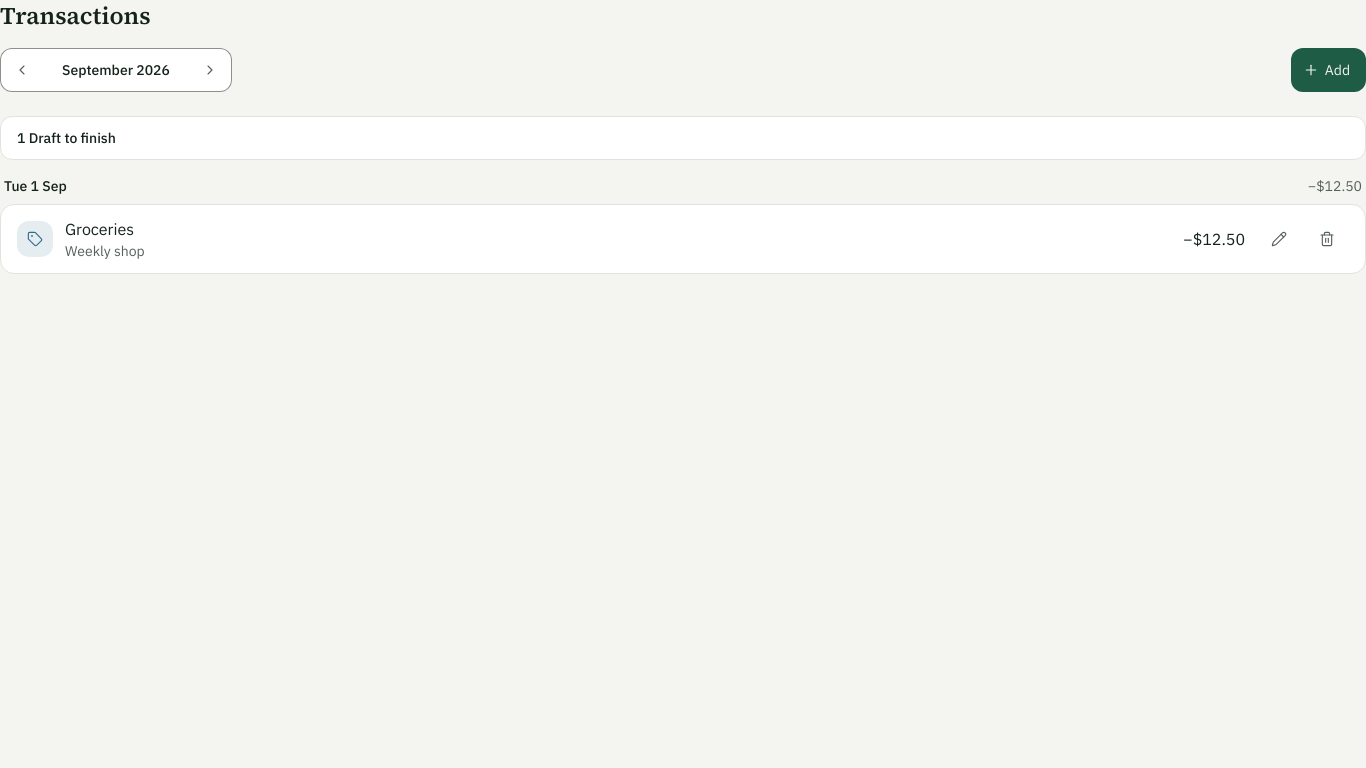
Test case: TransactionsPage drafts notice and sheet › deleting from the sheet › asks for confirmation before deleting a Draft
Click the button "1 Draft to finish": [45, 138] box [0,116,1365,160]
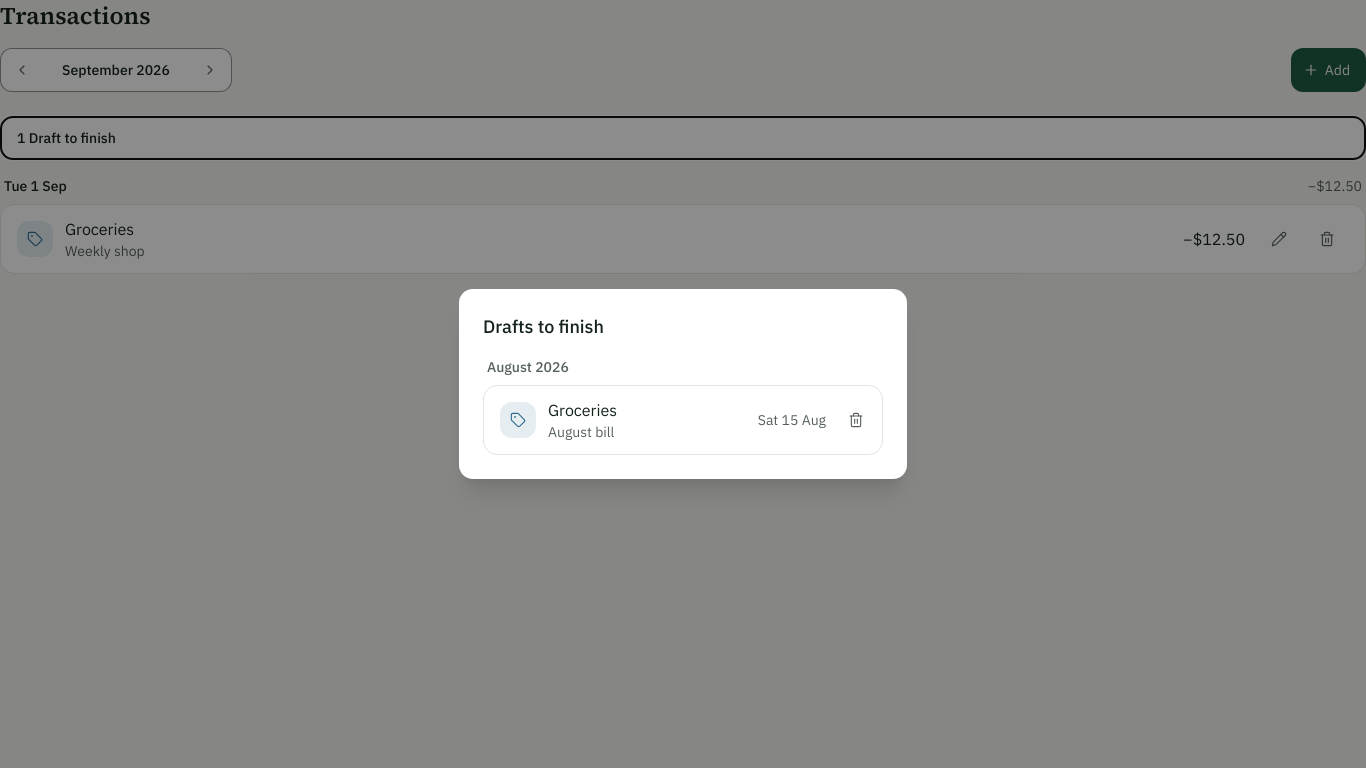
Click the button named "Delete": [856, 420] box [834,398,878,442]
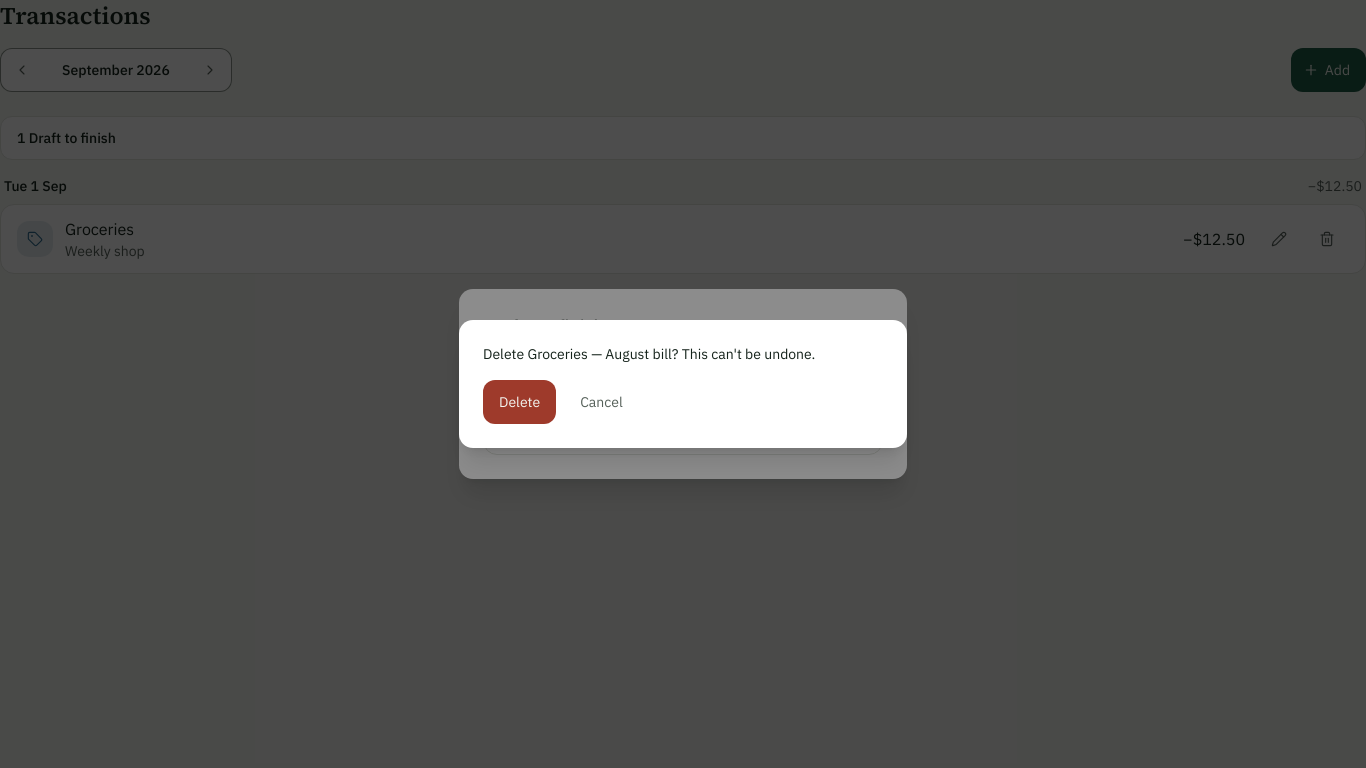
Expected: the text "Delete Groceries — August bill? This can't be undone." is shown, [483,345,815,363]
